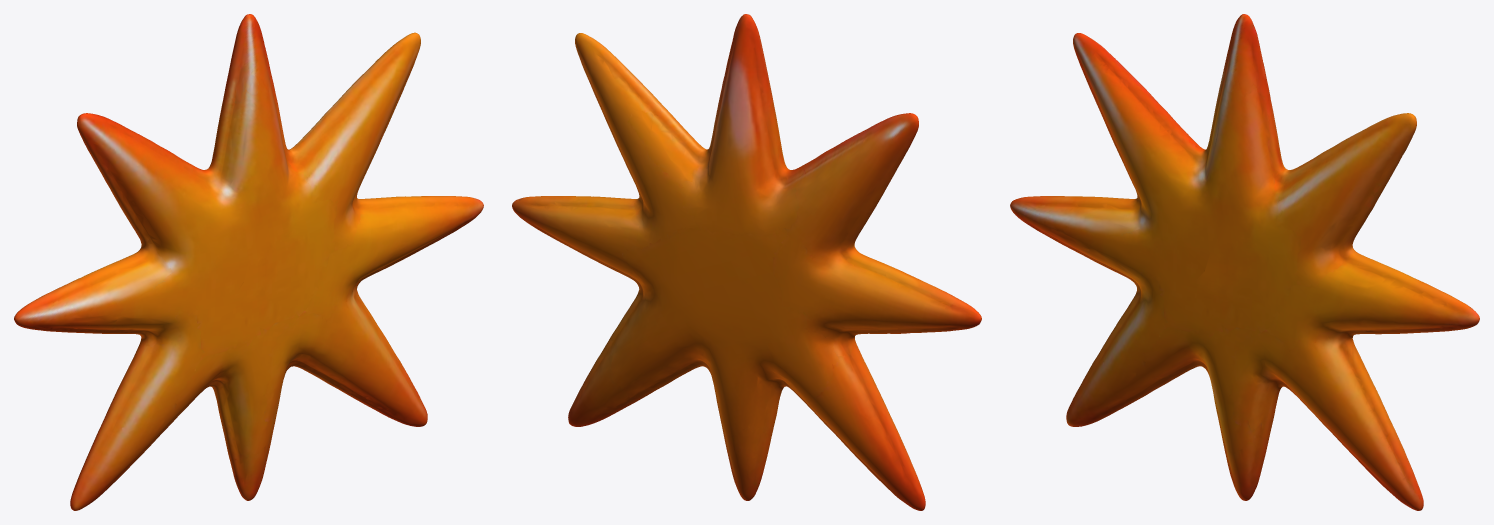
The model's file is splat__main__r2__p1.glb.
3 renders of one model, left to right at view 1: azimuth 30°, elevation 25°; view 2: azimuth 150°, elevation 25°; view 3: azimuth 330°, elevation 25°, orthographic.
Visible parts, largest first — view 1: model; view 2: model; view 3: model.
Part boxes in pixels (x1,y1,x2,y2): model: [14, 14, 483, 510]; model: [512, 14, 981, 510]; model: [1010, 14, 1479, 510].
Size of the model in its own units: 1.76 by 1.74 by 0.2274.
Materials: 1 (1 with a texture image).
